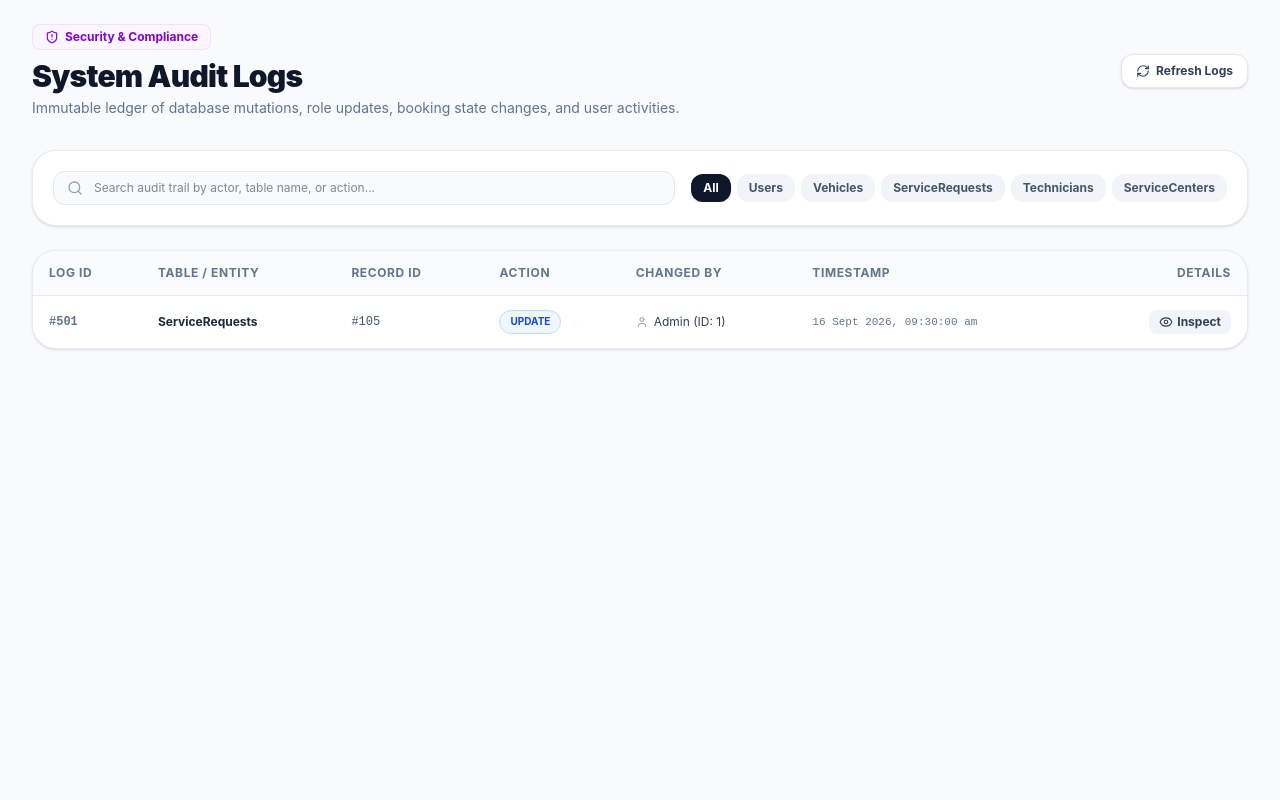
Test: AdminAuditLogsPage › renders system audit logs and inspects change details
The width and height of the screenshot is (1280, 800).
Expected: the cell "ServiceRequests" is shown, [142,296,335,348]
Expected: the text "UPDATE" is shown, [500,310,561,334]
Click the button "Inspect" at [1190, 322], box [1149,310,1231,334]
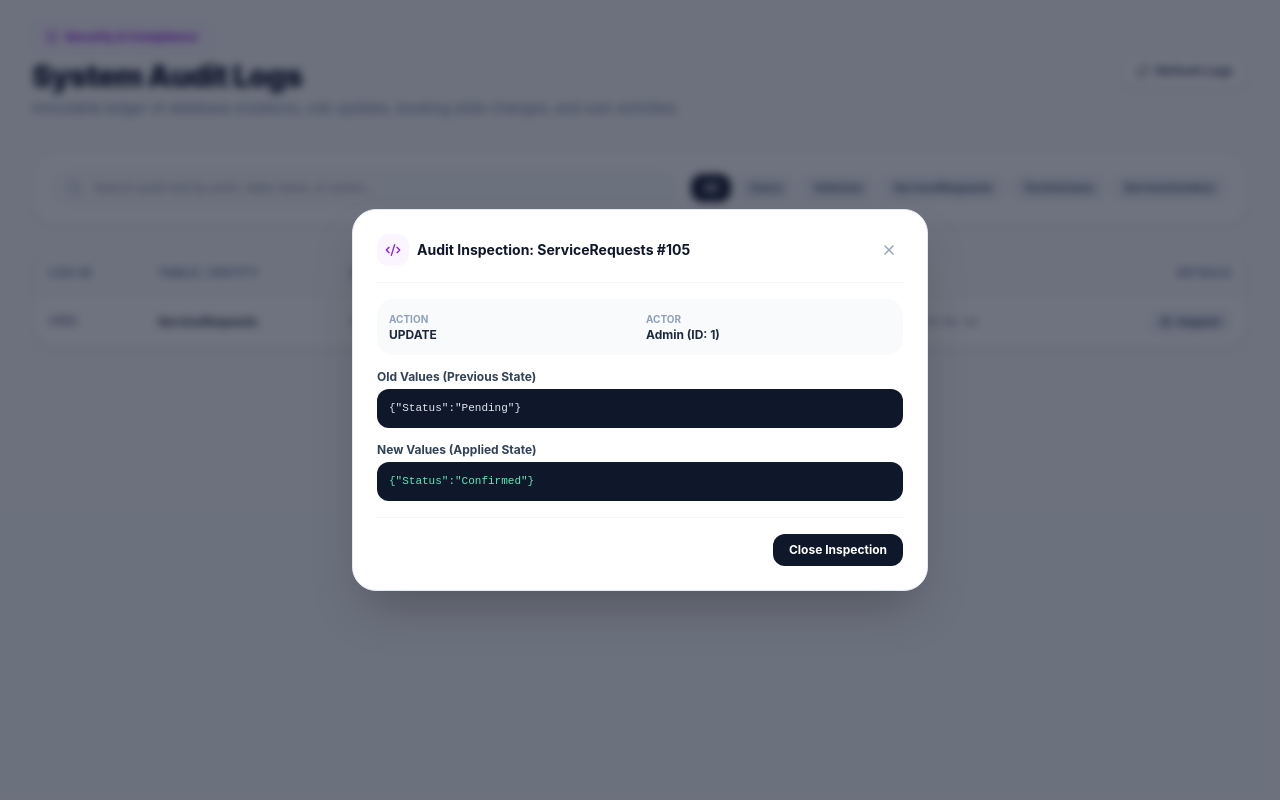
Expected: the heading "Audit Inspection: ServiceRequests #105" is shown, [417,240,690,260]
Expected: the text "{\"Status\":\"Pending\"}" is shown, [377,389,903,428]
Expected: the text "{\"Status\":\"Confirmed\"}" is shown, [377,462,903,501]
